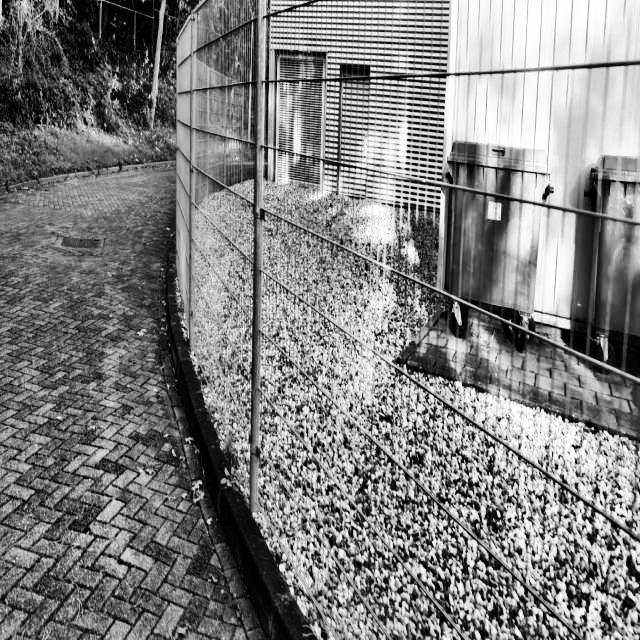fences: (182, 1, 640, 640)
